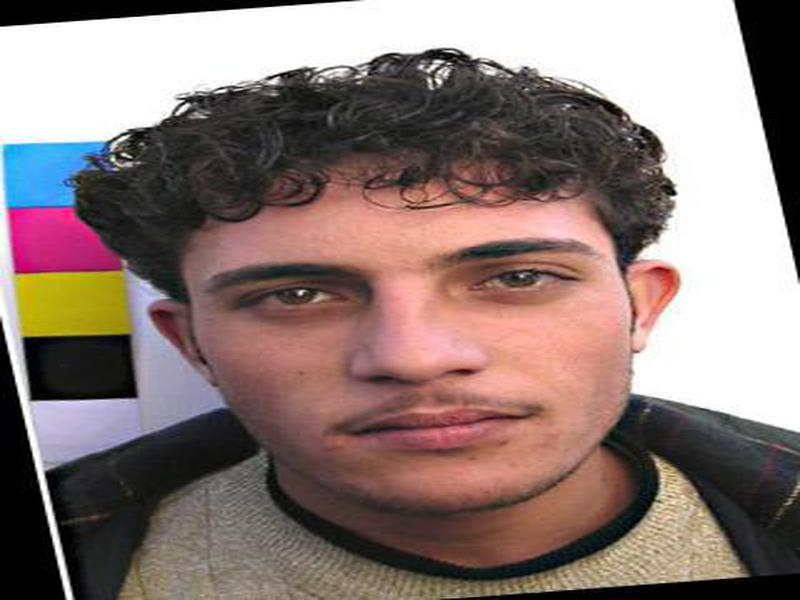without_mask: (178, 199, 634, 514)
